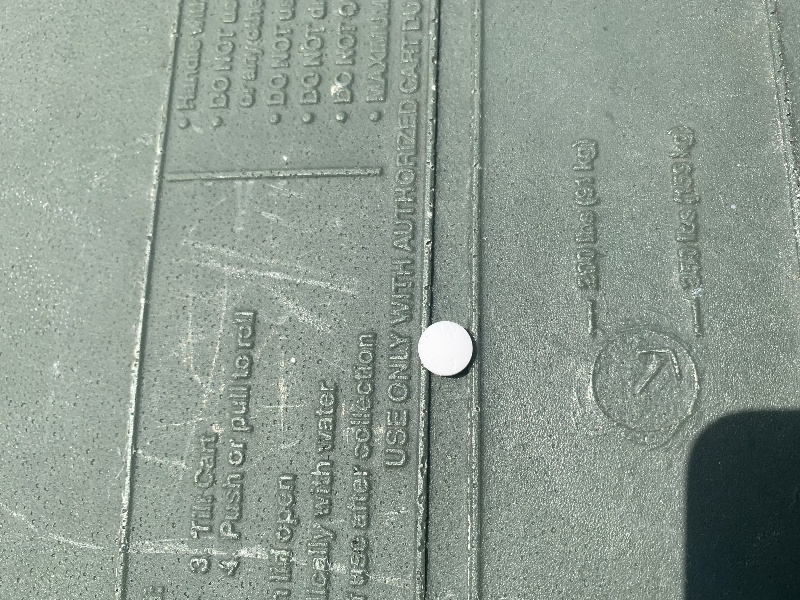Aspirin: (415, 319, 477, 380)
